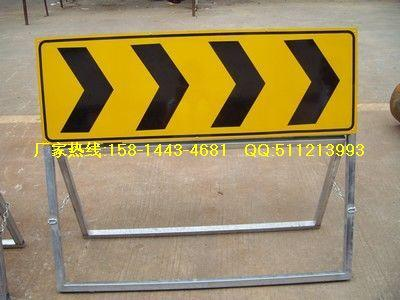sign: (37, 41, 355, 130)
